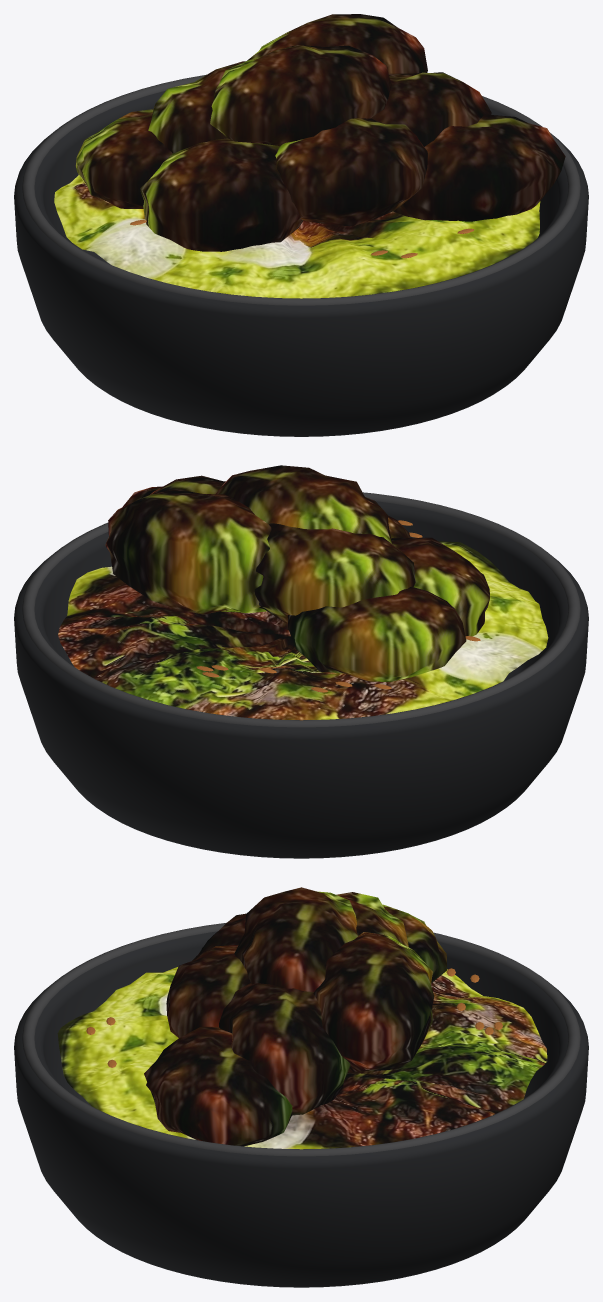
The model's file is spiced-mutton-muse.glb.
The picture shows the model from 3 angles, top to bottom: view 1: azimuth 30°, elevation 25°; view 2: azimuth 150°, elevation 25°; view 3: azimuth 270°, elevation 25°; orthographic projection.
Visible parts, largest first — view 1: Spiced Mutton Muse | black shallow bowl, silky pea puree, spiced mutton chunk 01, spiced mutton chunk 07, spiced mutton chunk 08, spiced mutton chunk 02, glazed upper lip, spiced mutton chunk 06, spiced mutton chunk 03, spiced mutton chunk 05, spiced mutton chunk 04; view 2: Spiced Mutton Muse | black shallow bowl, silky pea puree, spiced mutton chunk 05, spiced mutton chunk 06, spiced mutton chunk 04, glazed upper lip, spiced mutton chunk 07, spiced mutton chunk 01, spiced mutton chunk 03; view 3: Spiced Mutton Muse | black shallow bowl, silky pea puree, spiced mutton chunk 05, spiced mutton chunk 08, spiced mutton chunk 03, glazed upper lip, spiced mutton chunk 07, spiced mutton chunk 02, spiced mutton chunk 04, spiced mutton chunk 06, spiced mutton chunk 01.
Boxes of the visible parts, x1,y1,x2,y2 form: Spiced Mutton Muse | black shallow bowl: [14, 90, 588, 436]; silky pea puree: [54, 175, 540, 298]; spiced mutton chunk 01: [140, 138, 303, 251]; spiced mutton chunk 07: [210, 44, 391, 146]; spiced mutton chunk 08: [393, 114, 565, 221]; spiced mutton chunk 02: [275, 118, 427, 226]; glazed upper lip: [22, 74, 580, 305]; spiced mutton chunk 06: [75, 109, 172, 208]; spiced mutton chunk 03: [371, 72, 491, 146]; spiced mutton chunk 05: [247, 14, 427, 73]; spiced mutton chunk 04: [148, 61, 245, 153]; Spiced Mutton Muse | black shallow bowl: [14, 501, 588, 858]; silky pea puree: [58, 541, 548, 720]; spiced mutton chunk 05: [105, 489, 271, 614]; spiced mutton chunk 06: [287, 586, 466, 681]; spiced mutton chunk 04: [254, 523, 415, 623]; glazed upper lip: [22, 492, 580, 727]; spiced mutton chunk 07: [215, 465, 391, 543]; spiced mutton chunk 01: [391, 537, 489, 639]; spiced mutton chunk 03: [150, 475, 266, 613]; Spiced Mutton Muse | black shallow bowl: [14, 931, 588, 1287]; silky pea puree: [57, 967, 547, 1149]; spiced mutton chunk 05: [313, 932, 434, 1071]; spiced mutton chunk 08: [144, 1026, 292, 1146]; spiced mutton chunk 03: [219, 983, 350, 1115]; glazed upper lip: [22, 923, 580, 1156]; spiced mutton chunk 07: [234, 887, 358, 991]; spiced mutton chunk 02: [166, 945, 250, 1037]; spiced mutton chunk 04: [336, 892, 408, 947]; spiced mutton chunk 06: [383, 904, 446, 983]; spiced mutton chunk 01: [198, 913, 245, 954].
Size of the model in its own units: 0.9791 by 0.5607 by 0.9791.
5 materials, 2 textured.
